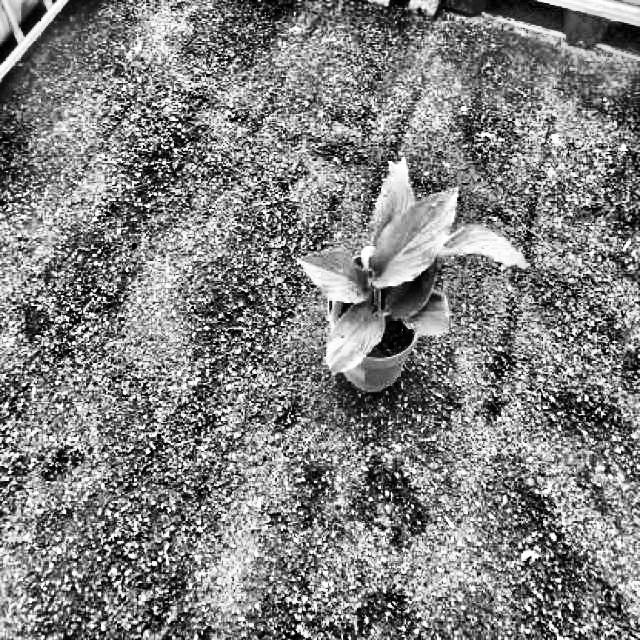plants: (294, 160, 523, 380)
